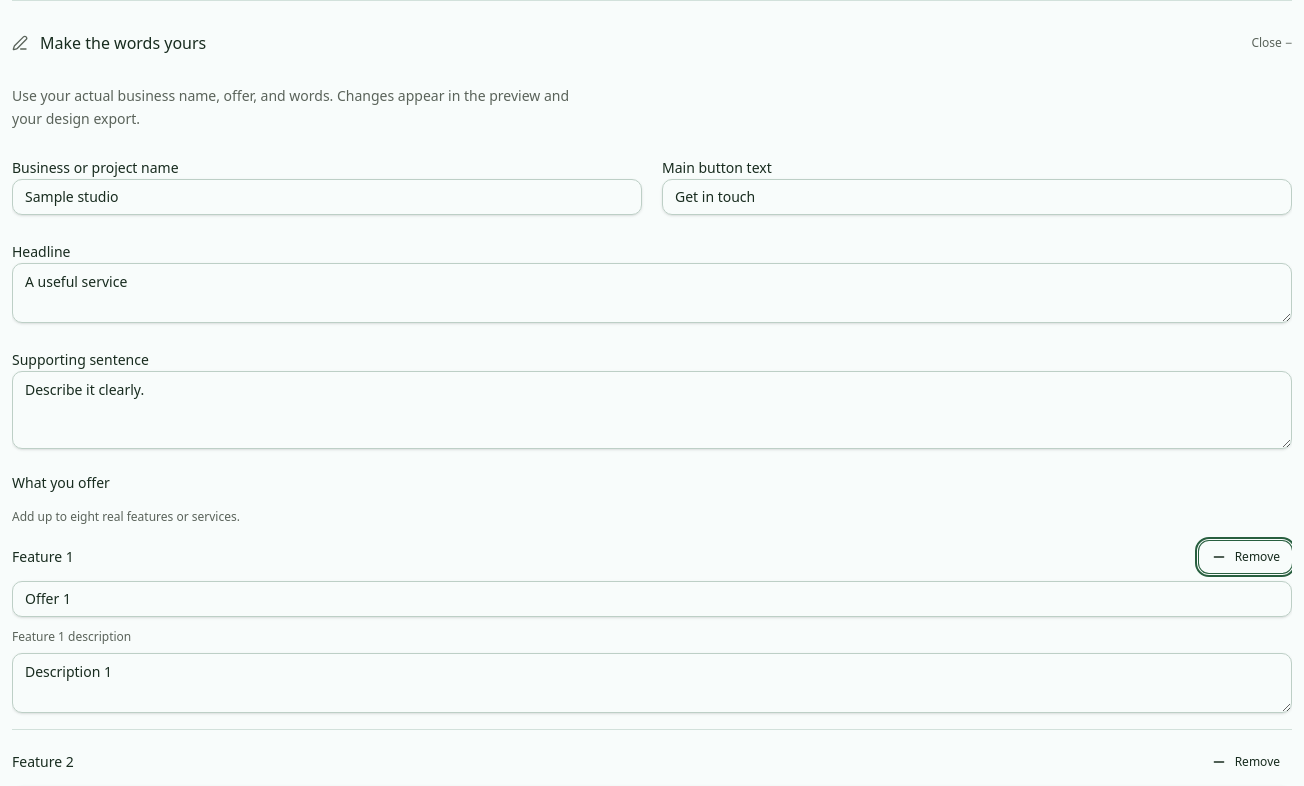
Test: content editor focus after owner acceptance › moves focus after removing offer 1 of 3
Click the button with aria-label "Remove feature 1". click: [1245, 556]
box: [1199,540,1292,572]
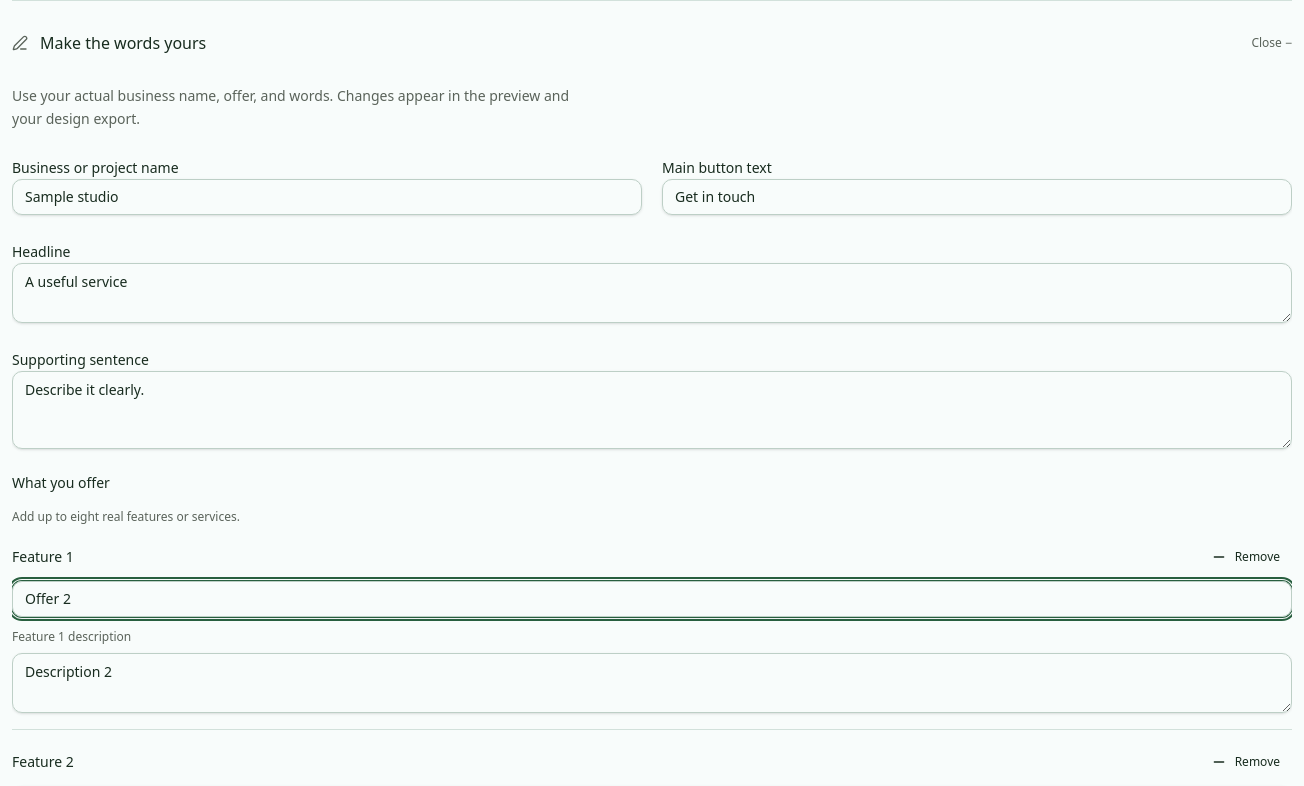
Expected: the field labelled "Feature 1" holds "Offer 2", [12,580,1292,616]
